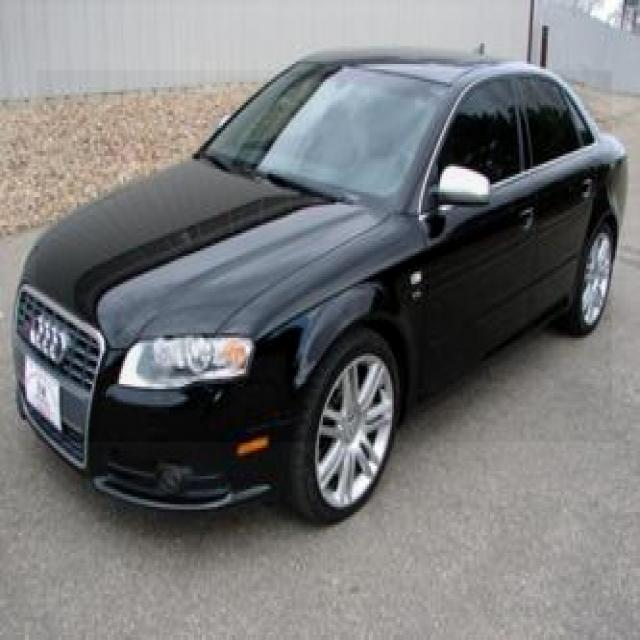Car: (36, 70, 612, 442)
